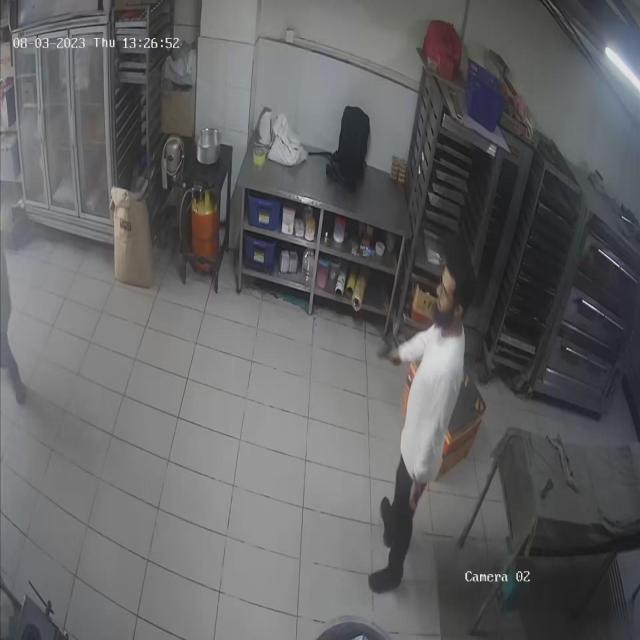Gun: (374, 312, 407, 378)
